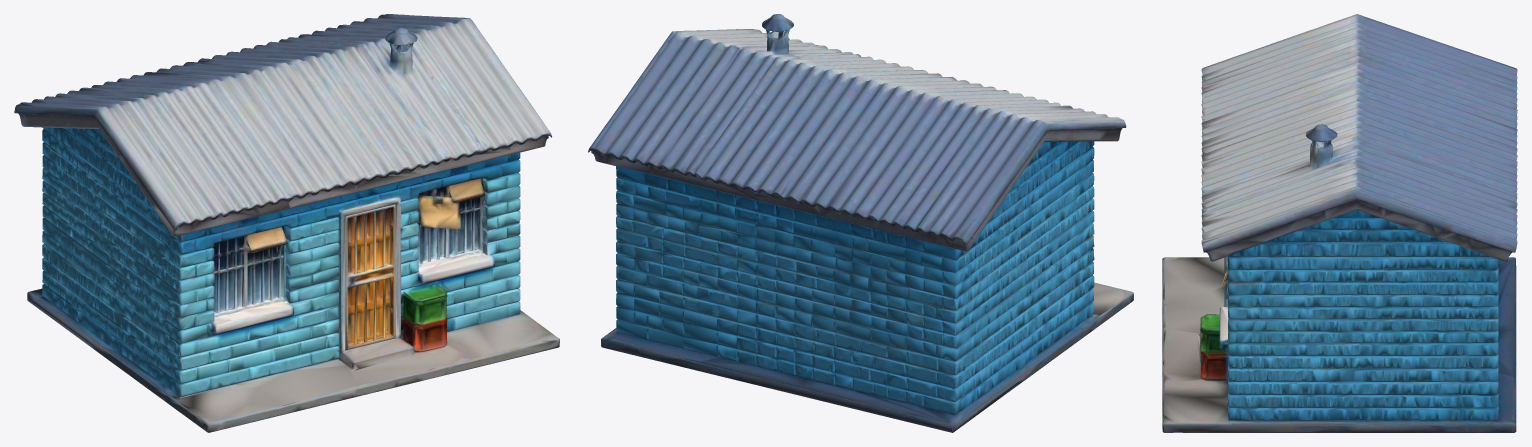
File: GenericBuilding.glb
3 views of the same model, side by side, from view 1: azimuth 30°, elevation 25°; view 2: azimuth 150°, elevation 25°; view 3: azimuth 270°, elevation 25° (orthographic). The views are drawn at different scales.
Parts seen in each view (by area): view 1: node_0; view 2: node_0; view 3: node_0.
Part boxes in pixels (x1,y1,x2,y2): node_0: [14, 14, 559, 432]; node_0: [588, 14, 1133, 432]; node_0: [1162, 14, 1517, 432].
Bounding box in the file's own units: 0.8397 × 0.5909 × 0.6999.
1 material, 1 textured.
